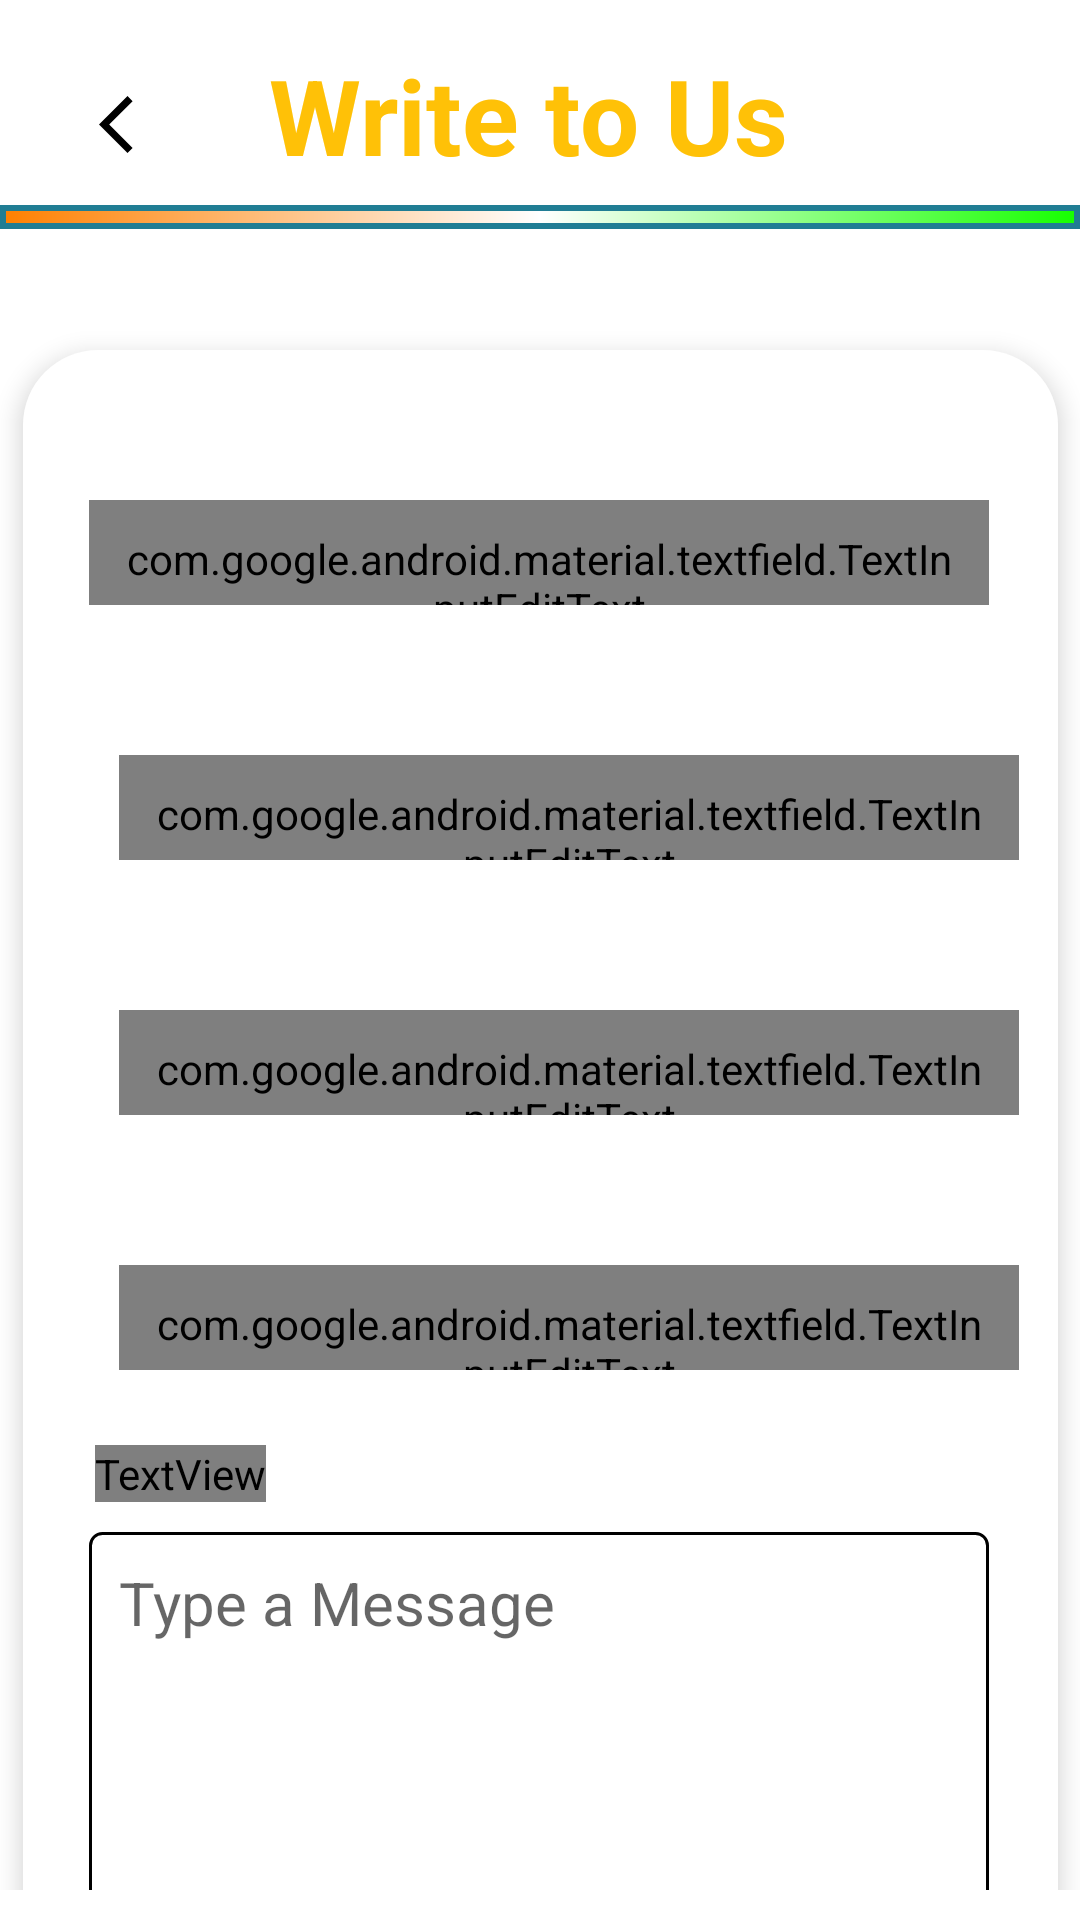

Icon click points for this 1080px x 1920px phone screenshot, format (x,y):
arrow back: (116,124)
